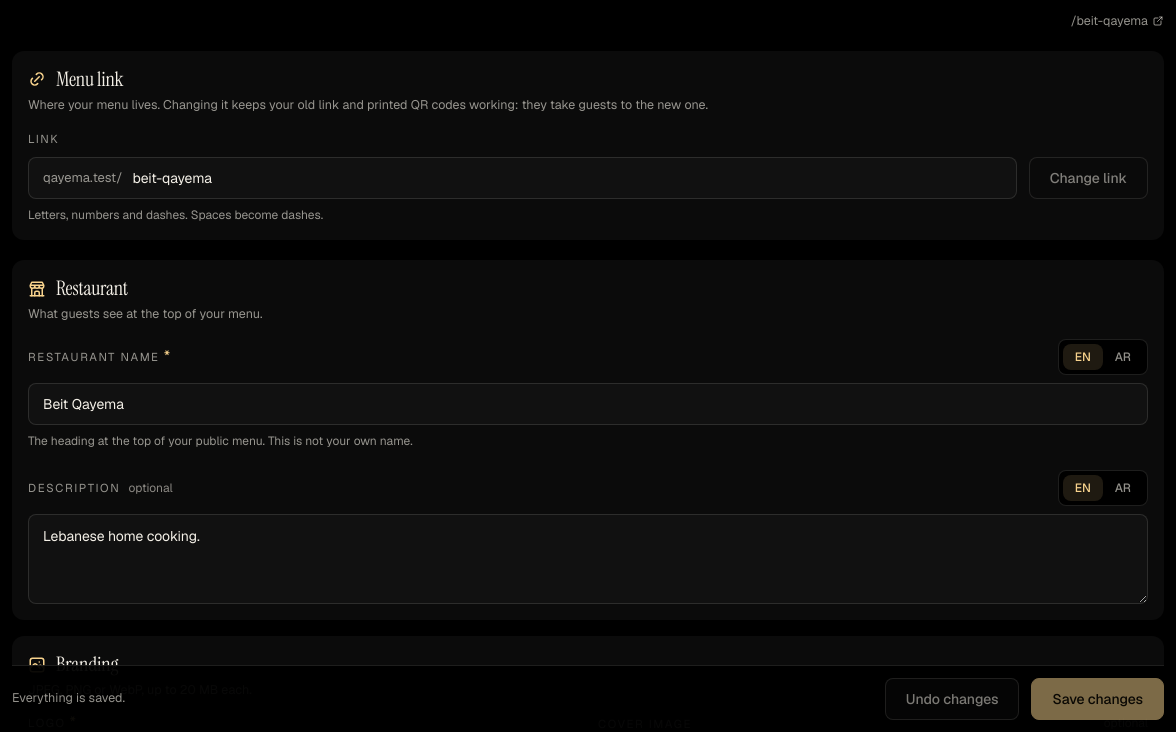
Test case: RestaurantPage › undoes changes back to what is saved
Type "Something else" into the field labelled "Restaurant name*".
click(588, 404); type("Something else")  # box 29,384 -> 1147,424
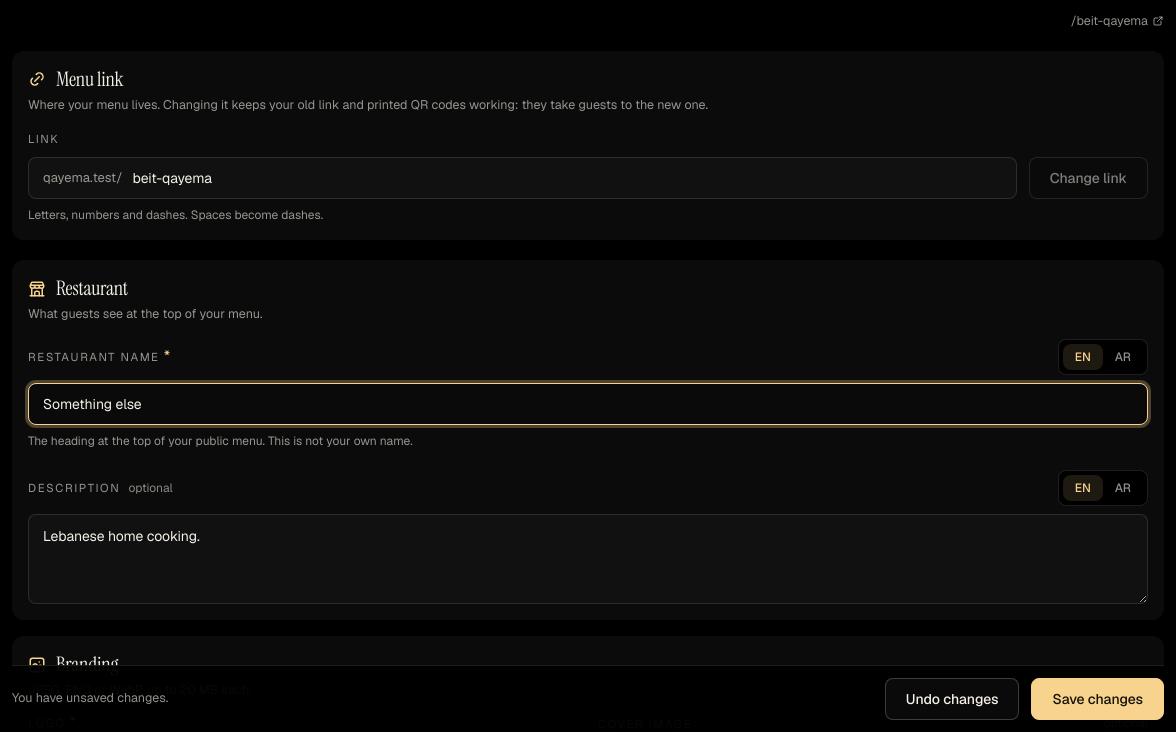
Click the button "Undo changes".
click(952, 699)  # box 885,678 -> 1020,720
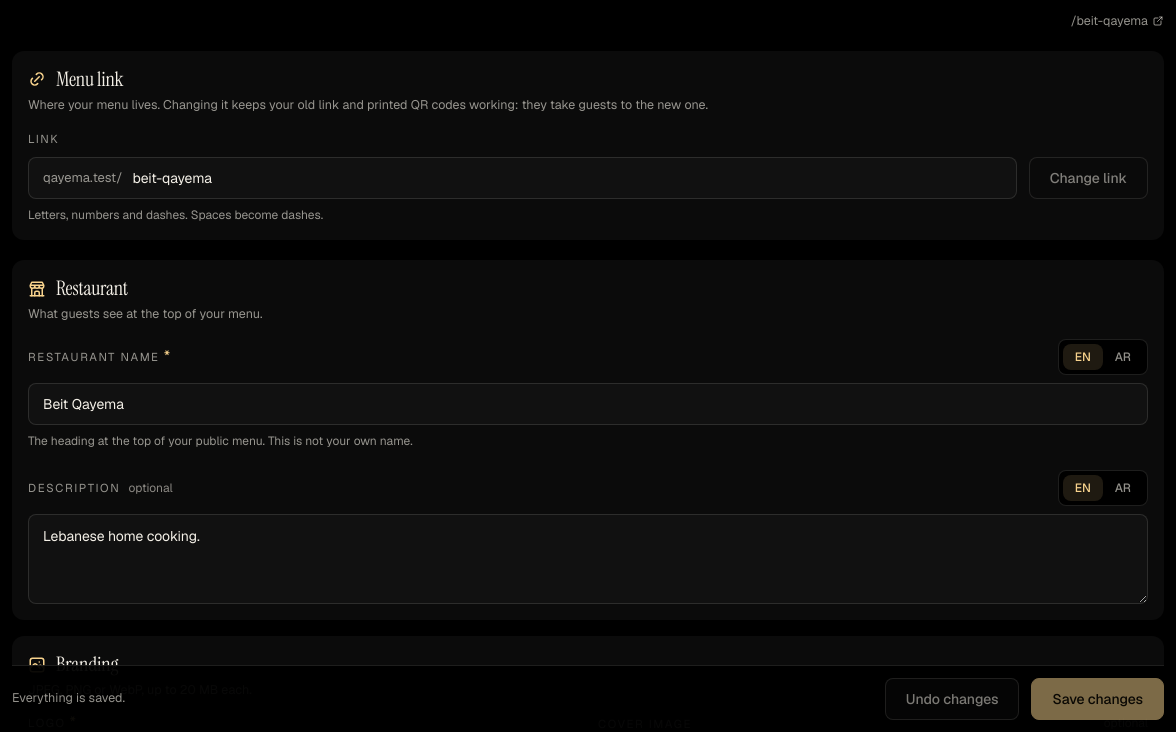
Check: the field labelled "Restaurant name*" holds "Beit Qayema", box 29,384 -> 1147,424
Check: the button "Save changes" is disabled, box 1032,678 -> 1164,720
